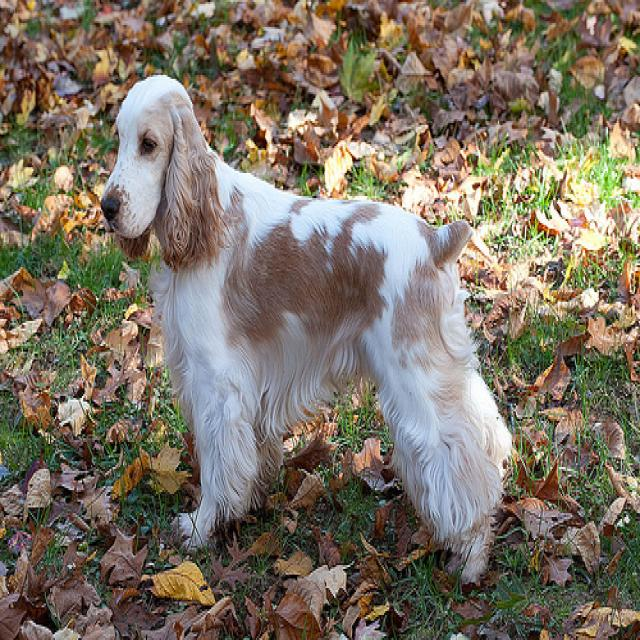dog-english_cocker_spaniel: (92, 65, 520, 594)
